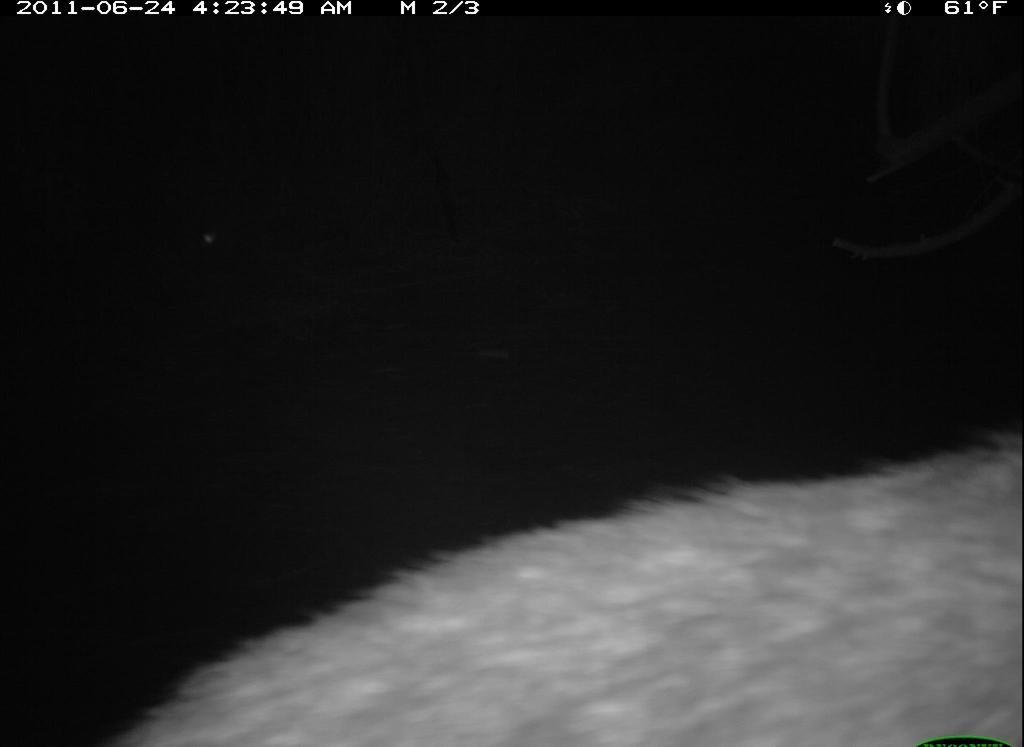raccoon: (97, 418, 1021, 744)
